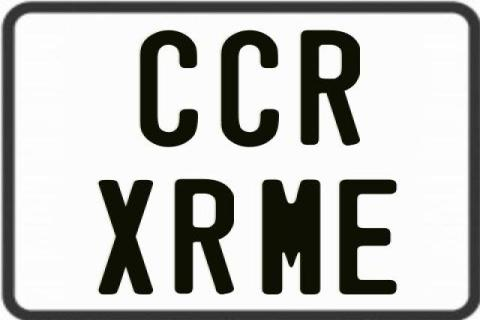C: (138, 29, 202, 150), (221, 29, 279, 149)
E: (338, 179, 402, 297)
M: (259, 177, 323, 293)
R: (301, 29, 363, 148), (175, 177, 236, 297)
X: (99, 178, 155, 296)
